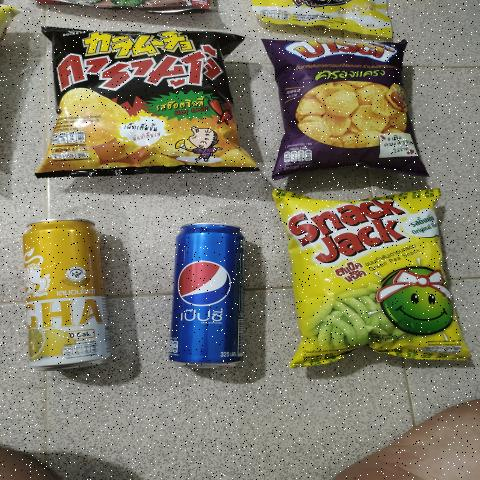karamujo: (42, 20, 254, 174)
party_purple: (270, 40, 425, 175)
pepsi_blue: (165, 224, 246, 372)
singha_yellow: (16, 210, 106, 380)
snack_jack: (284, 200, 461, 372)
